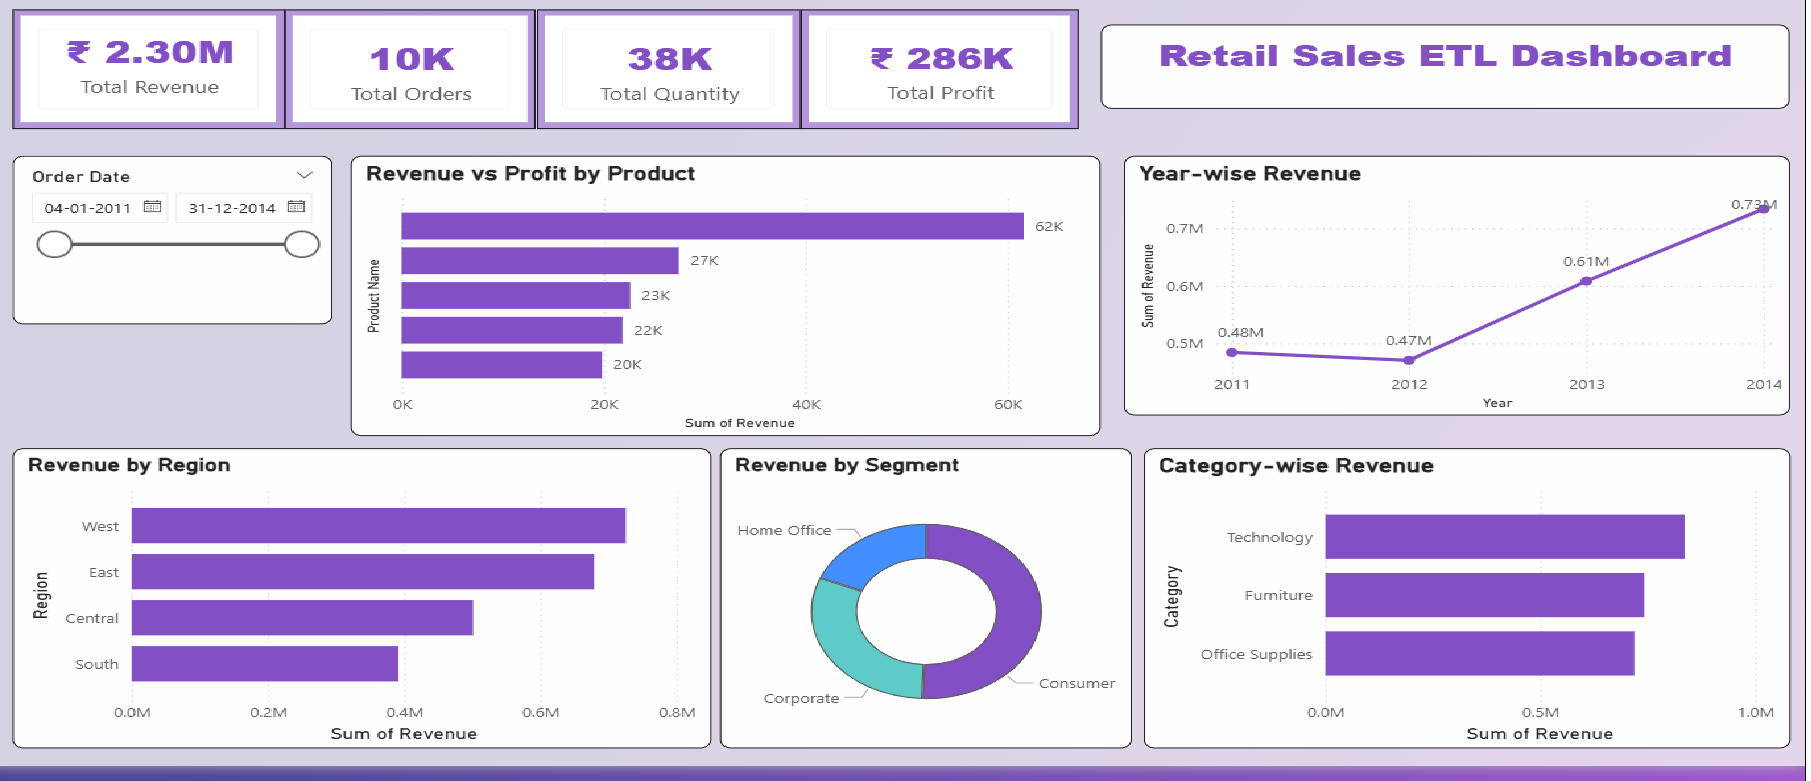

The dashboard page shown, as its layout file describes it:
{"tool":"powerbi","page":{"name":"Page 1","canvas":[1280,720],"ordinal":0},"visuals":[{"type":"cardVisual","fields":{"Data":["cleaned_sales.Total Revenue"]},"box":[16.5,16.5,192.1,111.1],"z":0},{"type":"cardVisual","fields":{"Data":["cleaned_sales.Total Orders"]},"box":[208.6,16.5,177,111.1],"z":1000},{"type":"cardVisual","fields":{"Data":["cleaned_sales.Total Quantity"]},"box":[385.6,16.5,186.6,111.1],"z":2000},{"type":"clusteredBarChart","title":"Revenue vs Profit by Product","fields":{"Category":["cleaned_sales.Product Name"],"Y":["Sum(cleaned_sales.Revenue)"]},"box":[254.7,152.3,529.1,260.5],"z":3000},{"type":"lineChart","title":"Year-wise Revenue","fields":{"Category":["cleaned_sales.Order Date.Variation.Date Hierarchy.Year","cleaned_sales.Order Date.Variation.Date Hierarchy.Quarter","cleaned_sales.Order Date.Variation.Date Hierarchy.Month","cleaned_sales.Order Date.Variation.Date Hierarchy.Day"],"Y":["Sum(cleaned_sales.Revenue)"]},"box":[800,152.3,469.8,241.9],"z":4000},{"type":"barChart","title":"Category-wise Revenue","fields":{"Category":["cleaned_sales.Category"],"Y":["Sum(cleaned_sales.Revenue)"]},"box":[814,424.4,455.8,279.1],"z":5000},{"type":"textbox","box":[783.5,30.2,485.8,78.2],"z":6000},{"type":"barChart","title":"Revenue by Region","fields":{"Category":["cleaned_sales.Region"],"Y":["Sum(cleaned_sales.Revenue)"]},"box":[16.3,424.4,493,279.1],"z":7000},{"type":"cardVisual","fields":{"Data":["Sum(cleaned_sales.Profit)"]},"box":[572.2,16.5,196.2,111.1],"z":8000},{"type":"donutChart","title":"Revenue by Segment","fields":{"Category":["cleaned_sales.Segment"],"Y":["Sum(cleaned_sales.Revenue)"]},"box":[515.1,424.4,290.7,279.1],"z":9000},{"type":"slicer","fields":{"Values":["cleaned_sales.Order Date"]},"box":[16.3,152.3,225.6,157],"z":10000}]}

Visuals, with their boxes on the page's 1280x720 design canvas (x1, y1, x2, y2). These are canvas units, not pixel positions in the 1811x781 screenshot, which may show the page scaled, cropped or inside an application window:
cardVisual - cleaned_sales.Total Revenue: crop(16, 16, 209, 128)
cardVisual - cleaned_sales.Total Orders: crop(209, 16, 386, 128)
cardVisual - cleaned_sales.Total Quantity: crop(386, 16, 572, 128)
"Revenue vs Profit by Product" clusteredBarChart: crop(255, 152, 784, 413)
"Year-wise Revenue" lineChart: crop(800, 152, 1270, 394)
"Category-wise Revenue" barChart: crop(814, 424, 1270, 704)
textbox: crop(784, 30, 1269, 108)
"Revenue by Region" barChart: crop(16, 424, 509, 704)
cardVisual - Sum(cleaned_sales.Profit): crop(572, 16, 768, 128)
"Revenue by Segment" donutChart: crop(515, 424, 806, 704)
slicer - cleaned_sales.Order Date: crop(16, 152, 242, 309)
